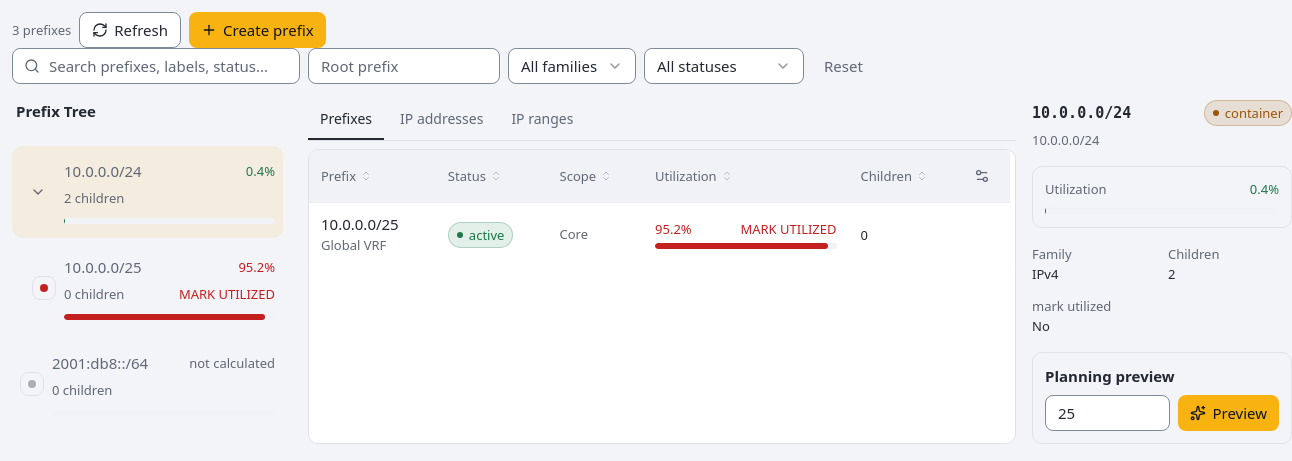
Test case: IpamWorkspace › only shows expand controls on prefixes that actually have children
This screenshot has width=1292, height=461.
Click the button named "Collapse 10.0.0.0/24". click: click(38, 192)
box: left=20, top=174, right=56, bottom=210
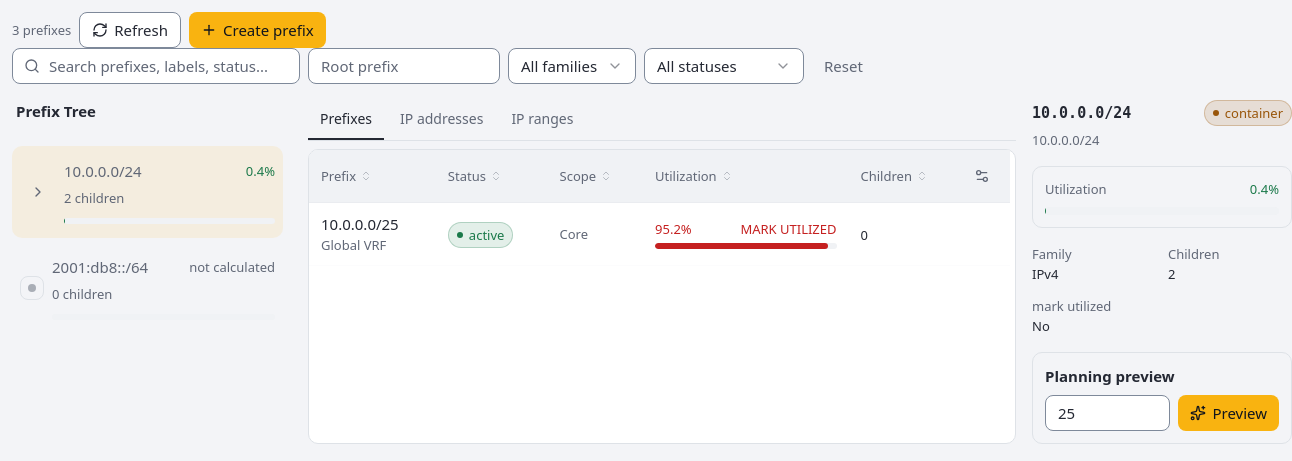
expect the button named "Expand 10.0.0.0/24" is shown: met, box left=20, top=174, right=56, bottom=210
